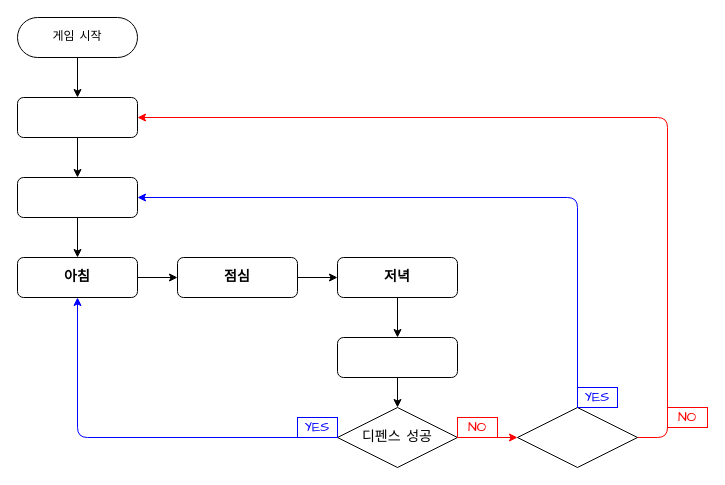
Image size: 725x485. Some labels were removed from this diagram. The centre of each missing label's shape, as x and y in pixels:
게임(호텔) 진입: (77,197)
디펜스: (397,357)
시작 메뉴: (77,117)
재시작: (577,437)
